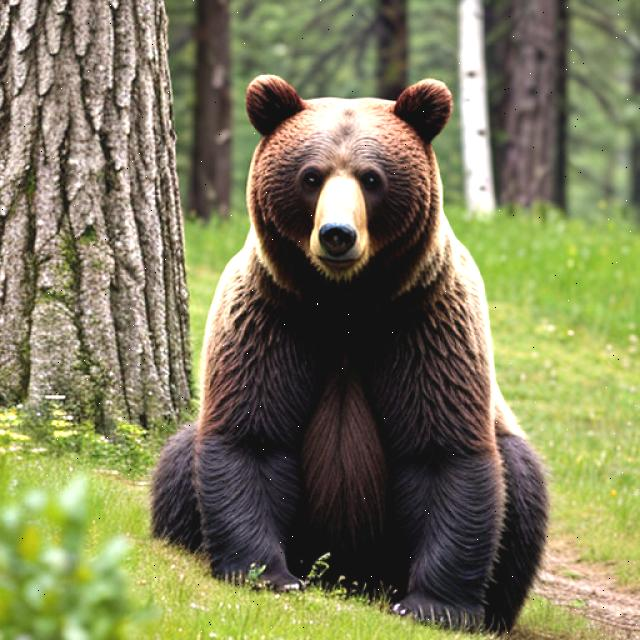bear: (210, 72, 456, 318)
